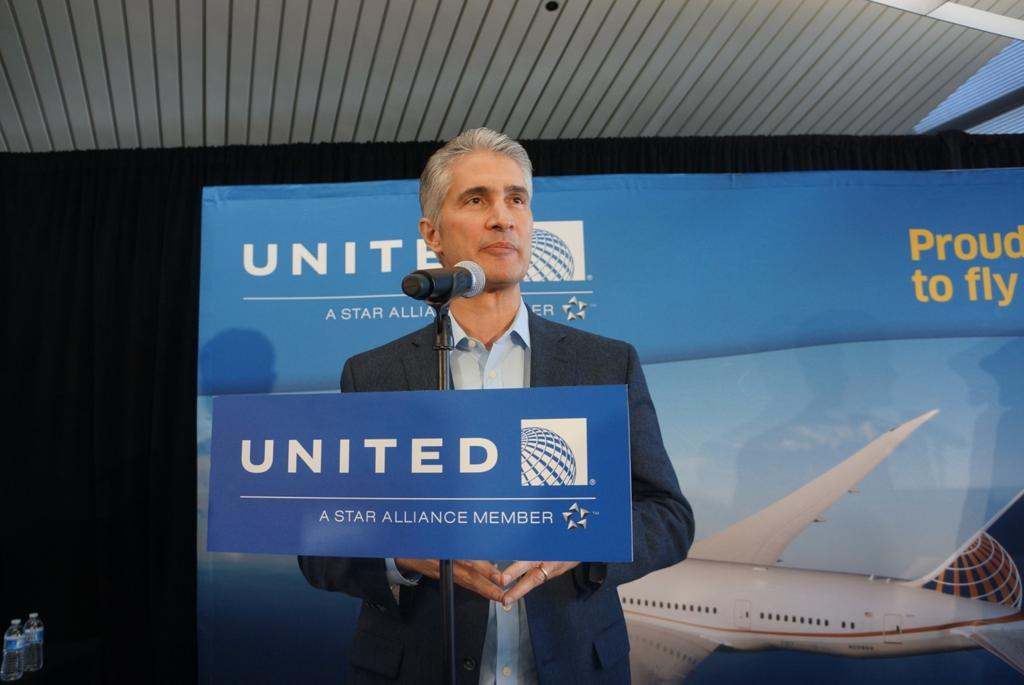face: (440, 160, 534, 278)
